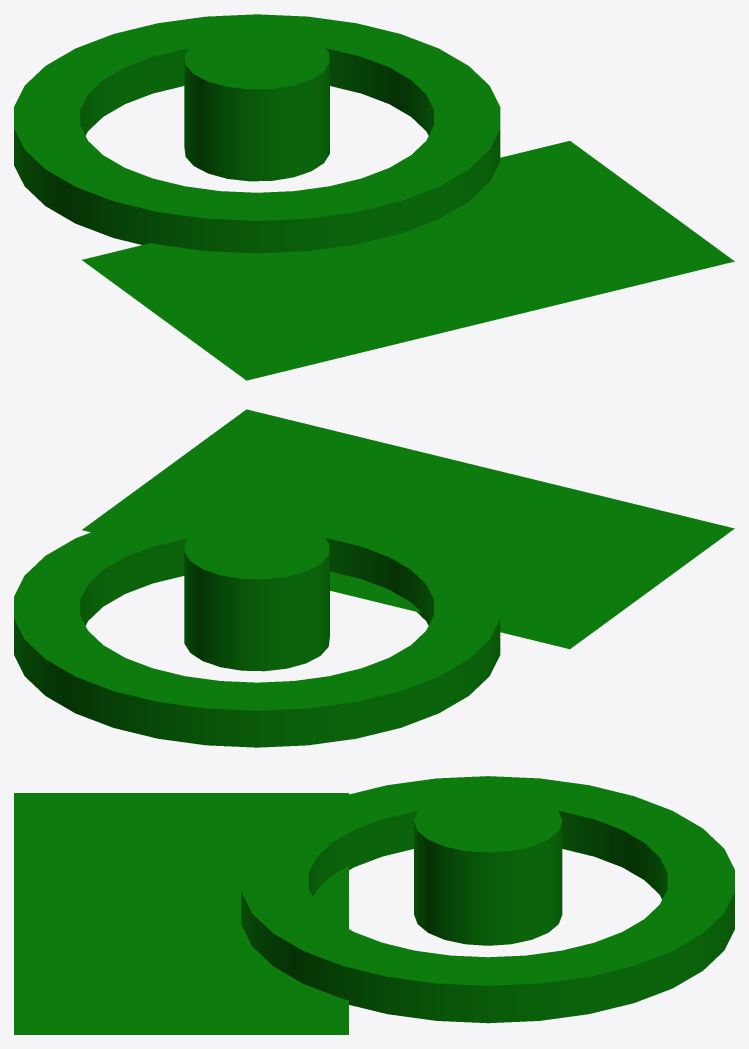
Rendered from mg0106_col00.glb.
3 views of the same model, one above another, from view 1: azimuth 30°, elevation 25°; view 2: azimuth 150°, elevation 25°; view 3: azimuth 270°, elevation 25° (orthographic).
Parts seen in each view (by area): view 1: pPipe14__mg0106_col00_mt__mesh; view 2: pPipe14__mg0106_col00_mt__mesh; view 3: pPipe14__mg0106_col00_mt__mesh.
Boxes of the visible parts, x1,y1,x2,y2 form: pPipe14__mg0106_col00_mt__mesh: (14,14,734,380); pPipe14__mg0106_col00_mt__mesh: (14,409,734,747); pPipe14__mg0106_col00_mt__mesh: (14,776,734,1034).
Bounding box in the file's own units: 52.26 × 9.79 × 65.82.
